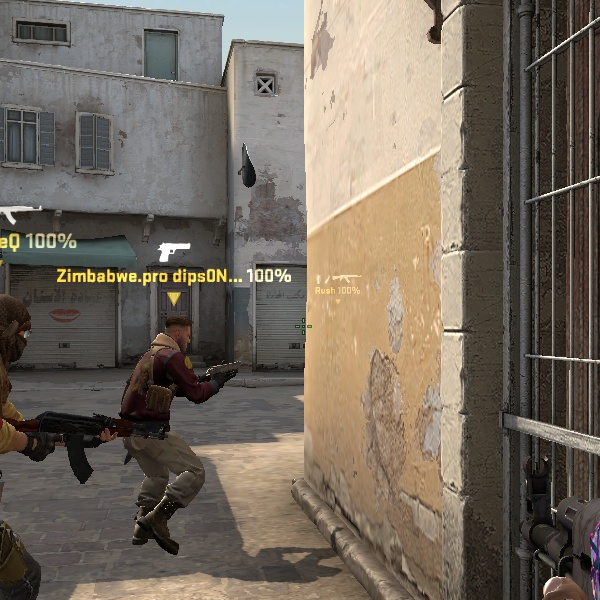t_body: (122, 312, 216, 555)
t_head: (160, 312, 195, 357)
